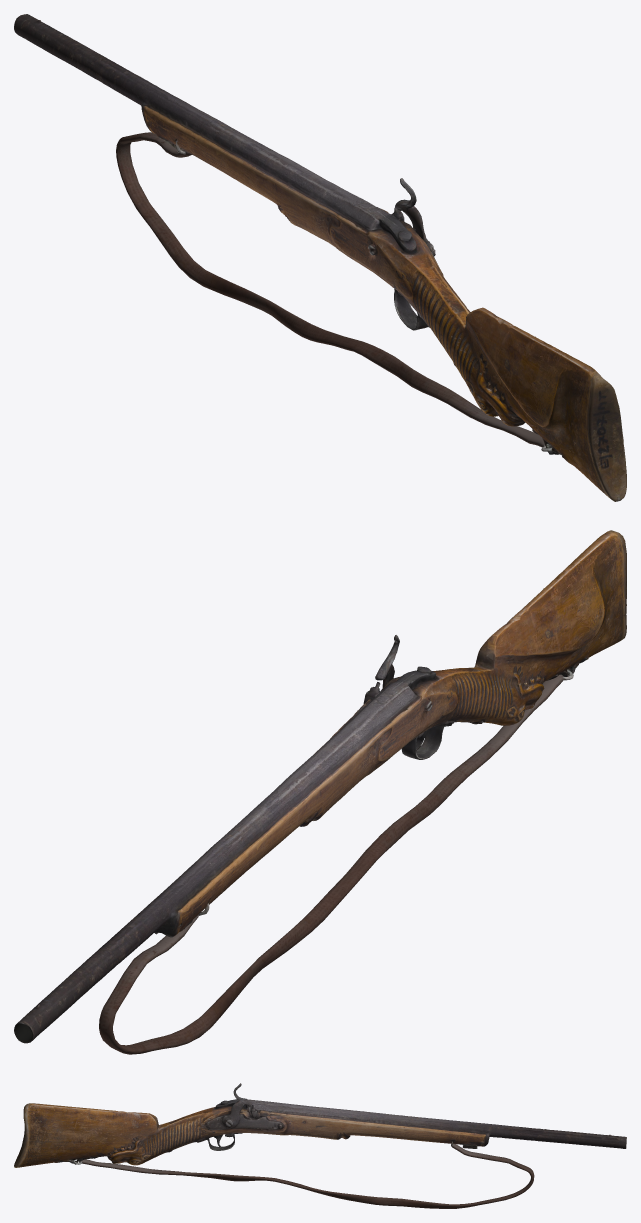
The model's file is shotgun.glb.
The picture shows the model from 3 angles, top to bottom: view 1: azimuth 30°, elevation 25°; view 2: azimuth 150°, elevation 25°; view 3: azimuth 270°, elevation 25°; orthographic projection. The views are drawn at different scales.
Parts seen in each view (by area): view 1: E_2707_MT_mk3; view 2: E_2707_MT_mk3; view 3: E_2707_MT_mk3.
Part boxes in pixels (left/top/right/bottom): E_2707_MT_mk3: left=14, top=14, right=626, bottom=501; E_2707_MT_mk3: left=14, top=530, right=626, bottom=1054; E_2707_MT_mk3: left=14, top=1083, right=626, bottom=1208.
Size of the model in its own units: 0.0525 by 0.2319 by 1.01.
1 material, 1 textured.
